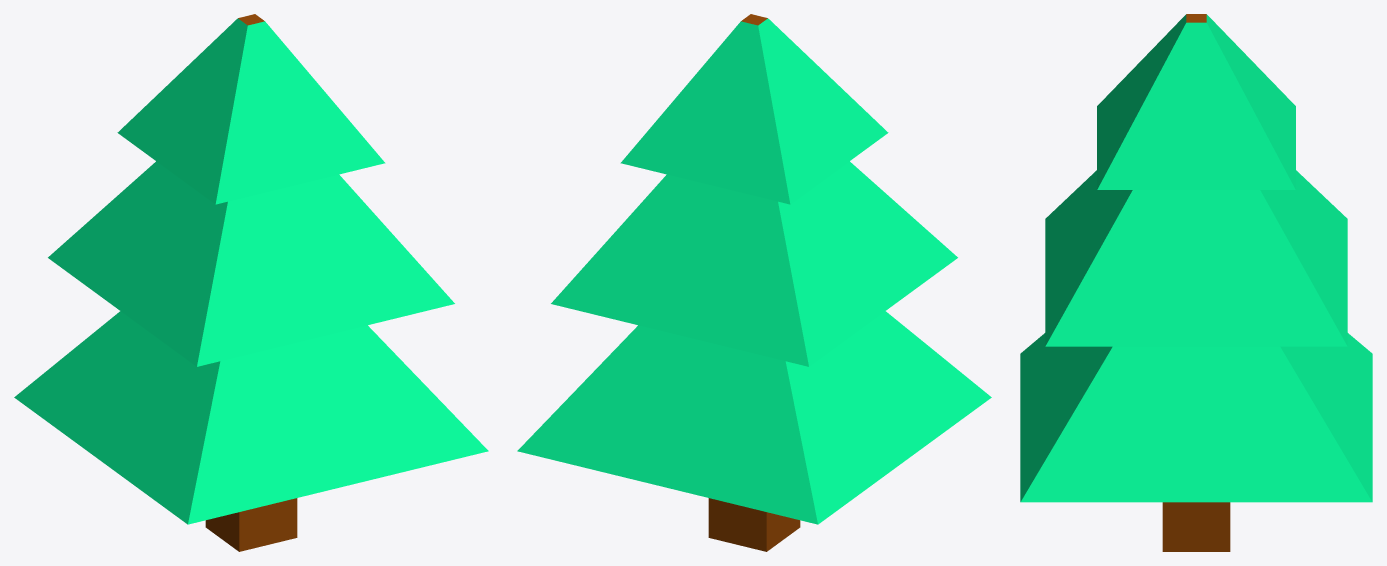
Rendered from elka1.fbx.
3 renders of one model, left to right at view 1: azimuth 30°, elevation 25°; view 2: azimuth 150°, elevation 25°; view 3: azimuth 270°, elevation 25°, orthographic.
Visible parts, largest first — view 1: elka; view 2: elka; view 3: elka.
Part boxes in pixels (x1,y1,x2,y2): elka: [14, 14, 488, 551]; elka: [517, 14, 991, 551]; elka: [1020, 14, 1372, 551].
Bounding box in the file's own units: 159 × 258 × 159.
